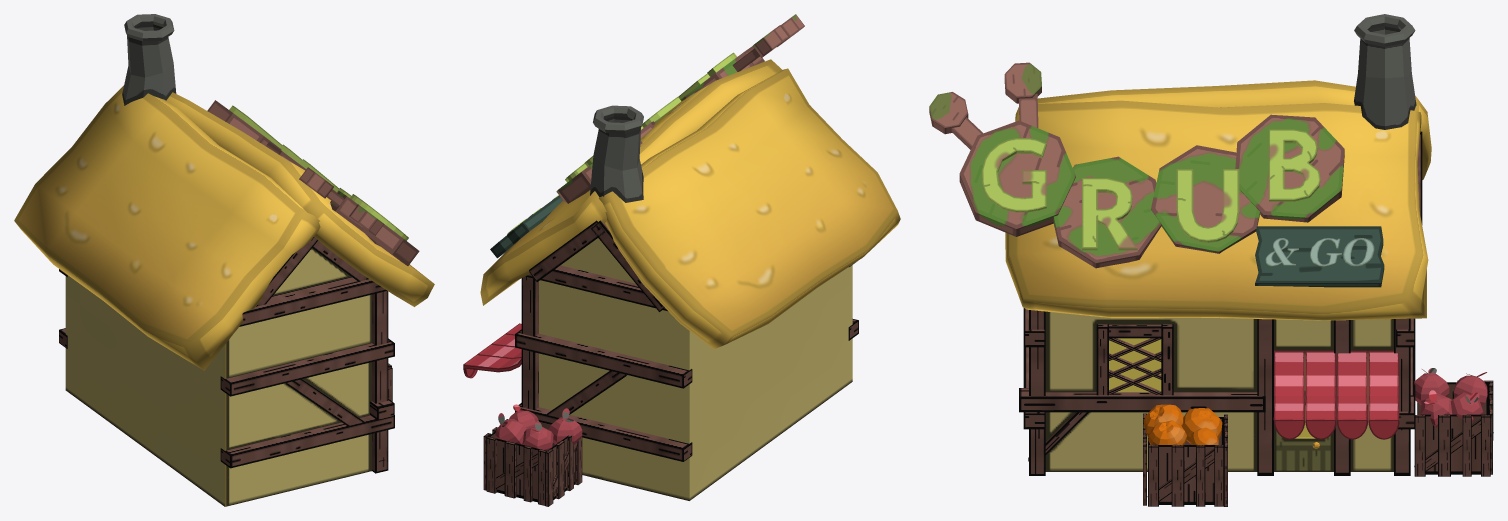
Rendered from GRUBNGO.glb.
3 renders of one model, left to right at view 1: azimuth 30°, elevation 25°; view 2: azimuth 150°, elevation 25°; view 3: azimuth 270°, elevation 25°, orthographic. The views are drawn at different scales.
Parts seen in each view (by area): view 1: Grup, Grup.001, Grup.002, Grup.007, Grup.003, Grup.013, Grup.014; view 2: Grup, Grup.001, Grup.002, Grup.004, Grup.003, Grup.009, Grup.011, Grup.006; view 3: Grup, Grup.002, Grup.006, Grup.005, Grup.004, Grup.001, Grup.003, Grup.008, Grup.011, Grup.010.
Boxes of the visible parts, x1=… form: Grup: x1=59, y1=100, x2=419, y2=506; Grup.001: x1=14, y1=85, x2=320, y2=370; Grup.002: x1=166, y1=92, x2=434, y2=306; Grup.007: x1=239, y1=237, x2=387, y2=326; Grup.003: x1=122, y1=14, x2=176, y2=105; Grup.013: x1=220, y1=338, x2=394, y2=396; Grup.014: x1=285, y1=379, x2=364, y2=426; Grup: x1=490, y1=14, x2=858, y2=500; Grup.001: x1=599, y1=68, x2=900, y2=349; Grup.002: x1=480, y1=59, x2=782, y2=305; Grup.004: x1=483, y1=404, x2=582, y2=506; Grup.003: x1=590, y1=105, x2=643, y2=202; Grup.009: x1=515, y1=329, x2=692, y2=388; Grup.011: x1=521, y1=276, x2=538, y2=410; Grup.006: x1=463, y1=323, x2=521, y2=378; Grup: x1=929, y1=62, x2=1422, y2=475; Grup.002: x1=1005, y1=100, x2=1428, y2=320; Grup.006: x1=1273, y1=350, x2=1399, y2=439; Grup.005: x1=1143, y1=404, x2=1227, y2=506; Grup.004: x1=1414, y1=368, x2=1493, y2=476; Grup.001: x1=1015, y1=80, x2=1431, y2=179; Grup.003: x1=1354, y1=14, x2=1416, y2=129; Grup.008: x1=1096, y1=324, x2=1173, y2=395; Grup.011: x1=1394, y1=318, x2=1410, y2=475; Grup.010: x1=1334, y1=320, x2=1350, y2=475.
Size of the model in its own units: 9.38 by 11.59 by 14.69.
1 material, 1 textured.
